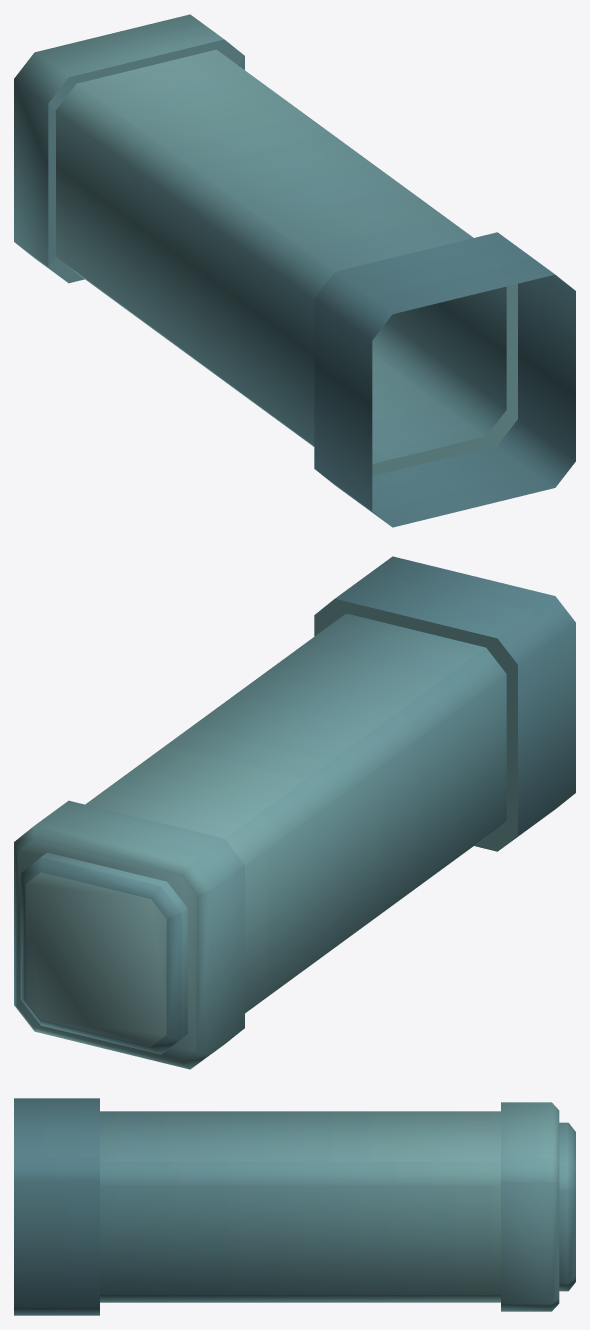
Rendered from Fence Pillar 01.FBX.
3 views of the same model, one above another, from view 1: azimuth 30°, elevation 25°; view 2: azimuth 150°, elevation 25°; view 3: azimuth 270°, elevation 25° (orthographic). The views are drawn at different scales.
Visible parts, largest first — view 1: Fence Pillar 01; view 2: Fence Pillar 01; view 3: Fence Pillar 01.
Boxes of the visible parts, x1=… form: Fence Pillar 01: x1=14, y1=14, x2=575, y2=527; Fence Pillar 01: x1=14, y1=556, x2=575, y2=1069; Fence Pillar 01: x1=14, y1=1098, x2=575, y2=1315.
Bounding box in the file's own units: 67.95 × 218 × 67.95.
Materials: 1 (1 with a texture image).
